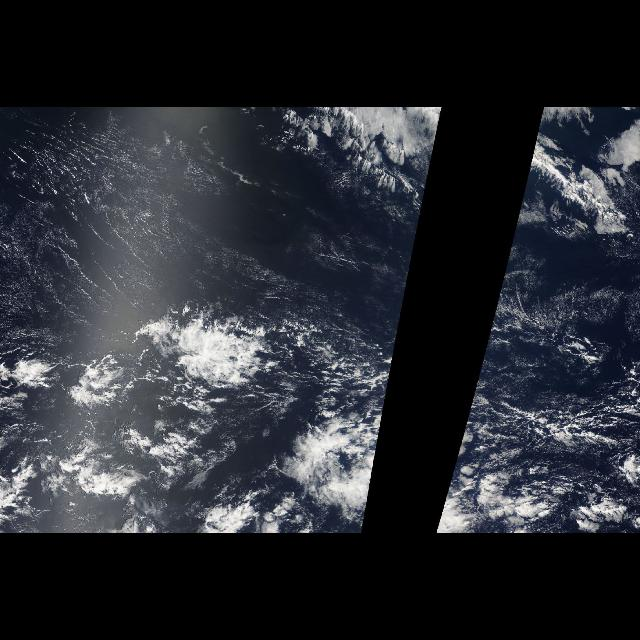Flower: (0, 306, 304, 530)
Sugar: (0, 109, 422, 325), (476, 211, 638, 407)
